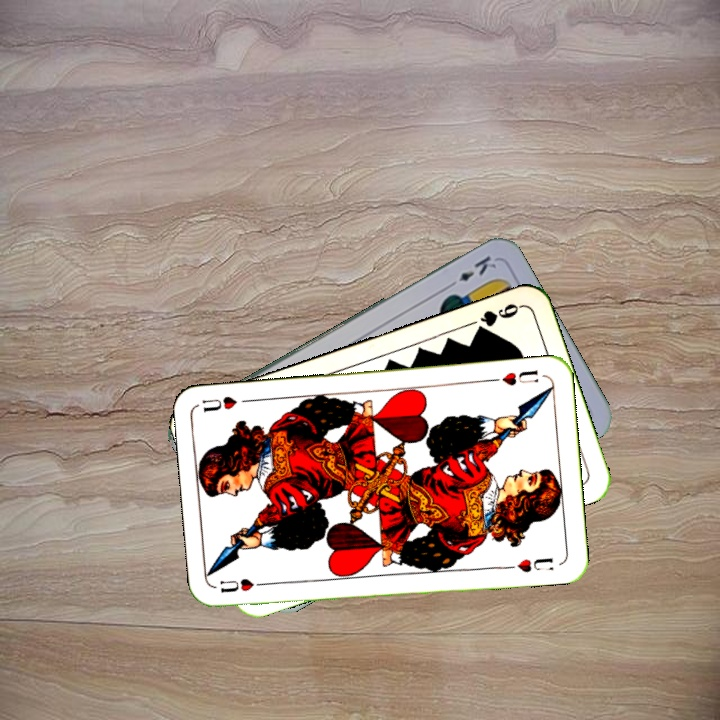EK: (443, 251, 499, 291)
G9: (471, 299, 524, 337)
HU: (487, 366, 542, 388), (215, 575, 273, 595)
